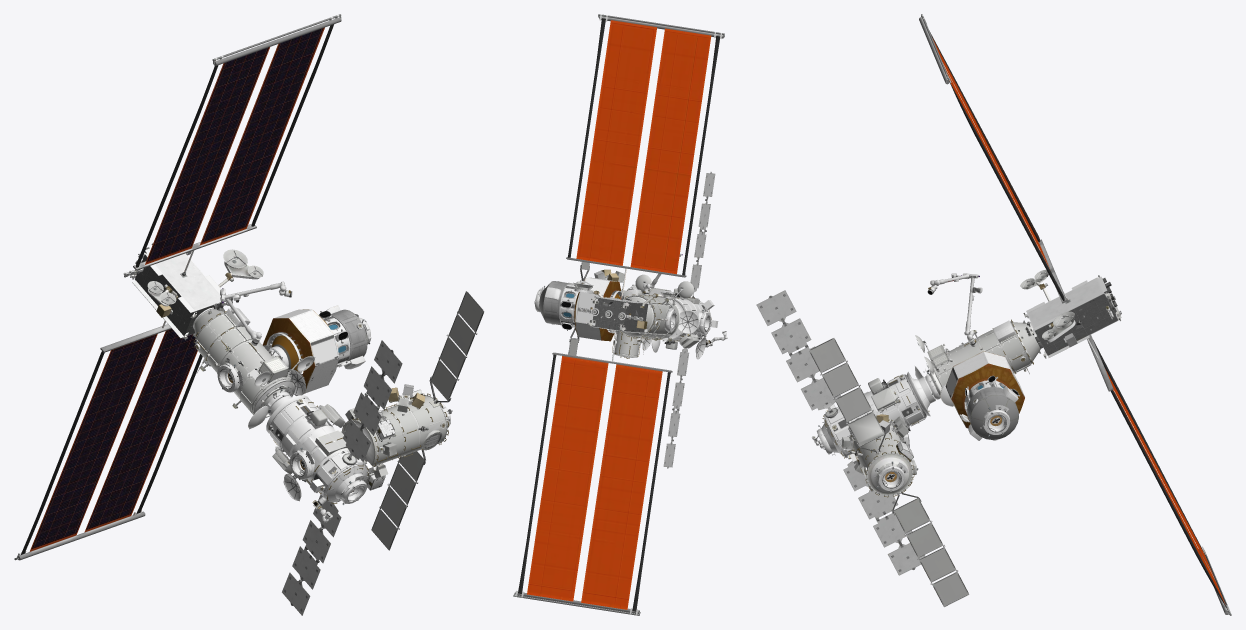
The model's file is satellite.glb.
3 views of the same model, side by side, from view 1: azimuth 30°, elevation 25°; view 2: azimuth 150°, elevation 25°; view 3: azimuth 270°, elevation 25° (orthographic). The views are drawn at different scales.
Parts seen in each view (by area): view 1: Maxar_PPE Array, I-Hab, Airlock, NG_HALO.001, ERMXL_LoRes, Maxar_PPE.001, NDS port active hatch.006, NDS port active hatch.007, Big Arm_1; view 2: Maxar_PPE Array, I-Hab, ERMXL_LoRes, Maxar_PPE.001, NG_HALO.001, Airlock, NDS port active hatch.006, NDS port active hatch.007; view 3: Airlock, I-Hab, Maxar_PPE Array, Maxar_PPE.001, ERMXL_LoRes, NG_HALO.001, NDS port active hatch.006, NDS port active hatch.007, Big Arm_1.
Boxes of the visible parts, x1,y1,x2,y2 form: Maxar_PPE Array: (14,14,341,560); I-Hab: (266,340,402,615); Airlock: (341,291,484,550); NG_HALO.001: (193,307,315,417); ERMXL_LoRes: (262,305,367,393); Maxar_PPE.001: (123,243,263,340); NDS port active hatch.006: (248,396,450,504); NDS port active hatch.007: (217,314,371,414); Big Arm_1: (220,281,332,522); Maxar_PPE Array: (513,14,724,615); I-Hab: (662,172,718,468); ERMXL_LoRes: (539,277,624,341); Maxar_PPE.001: (573,281,675,333); NG_HALO.001: (620,274,693,354); Airlock: (568,262,650,358); NDS port active hatch.006: (642,307,711,359); NDS port active hatch.007: (534,286,677,332); Airlock: (809,338,969,607); I-Hab: (756,290,930,575); Maxar_PPE Array: (919,14,1231,615); Maxar_PPE.001: (1020,269,1121,358); ERMXL_LoRes: (945,351,1024,440); NG_HALO.001: (915,319,1040,396); NDS port active hatch.006: (816,366,935,491); NDS port active hatch.007: (925,342,1010,436); Big Arm_1: (811,273,982,448).
Bounding box in the file's own units: 17.88 × 38.97 × 30.07.
13 materials, 13 textured.
